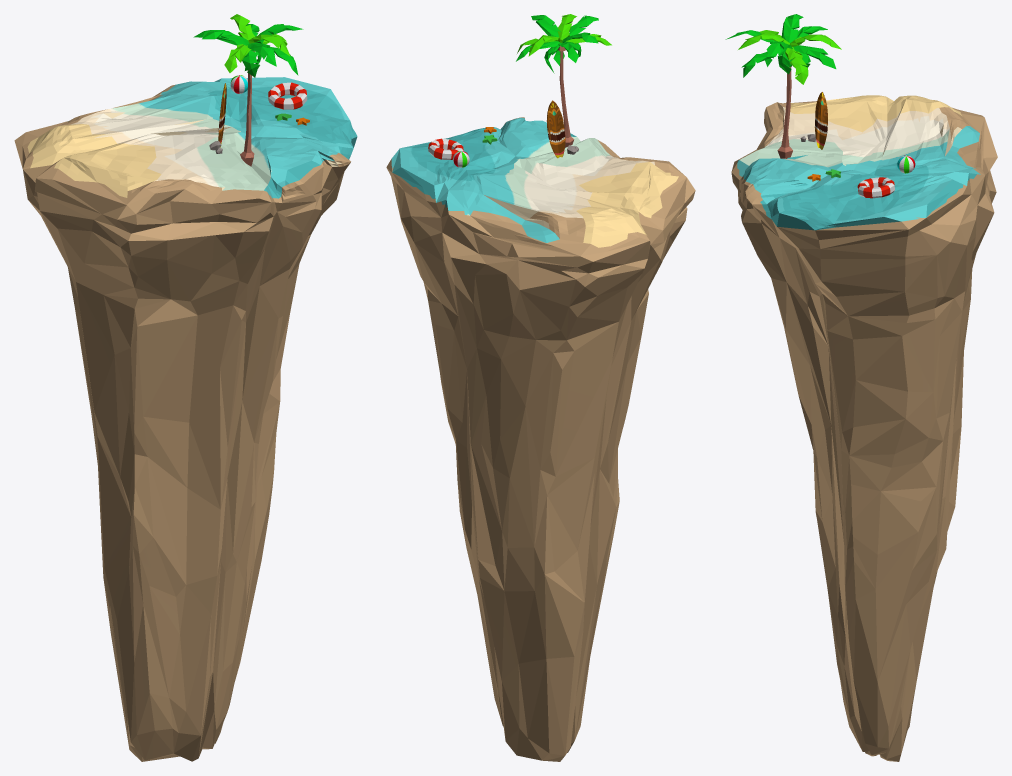
File: Rock8.fbx
The picture shows the model from 3 angles, left to right: view 1: azimuth 30°, elevation 25°; view 2: azimuth 150°, elevation 25°; view 3: azimuth 270°, elevation 25°; orthographic projection. The views are drawn at different scales.
Visible parts, largest first — view 1: rock1, PalmTree.001, Float_Ring; view 2: rock1, PalmTree.001, Component#1_001, Float_Ring; view 3: rock1, PalmTree.001, Float_Ring, Component#1_001.
Boxes of the visible parts, left/top/right/bottom form: rock1: left=14, top=77, right=357, bottom=761; PalmTree.001: left=193, top=14, right=303, bottom=166; Float_Ring: left=268, top=82, right=307, bottom=109; rock1: left=386, top=117, right=695, bottom=761; PalmTree.001: left=516, top=14, right=611, bottom=147; Component#1_001: left=546, top=100, right=565, bottom=158; Float_Ring: left=428, top=138, right=463, bottom=159; rock1: left=731, top=95, right=997, bottom=761; PalmTree.001: left=725, top=14, right=841, bottom=158; Float_Ring: left=857, top=177, right=894, bottom=198; Component#1_001: left=814, top=92, right=827, bottom=149.
Bounding box in the file's own units: 344 × 847 × 286.
16 materials, 2 textured.
